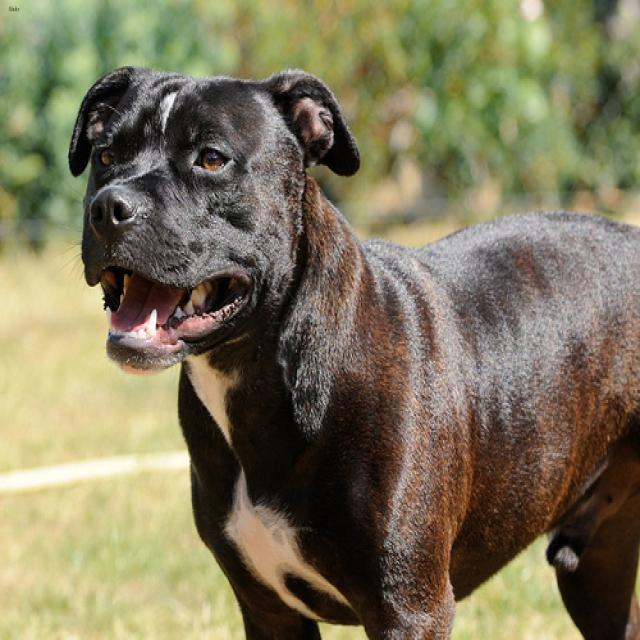dog-staffordshire_bull_terrier: (56, 58, 637, 637)
